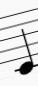note: (13, 8, 37, 77)
